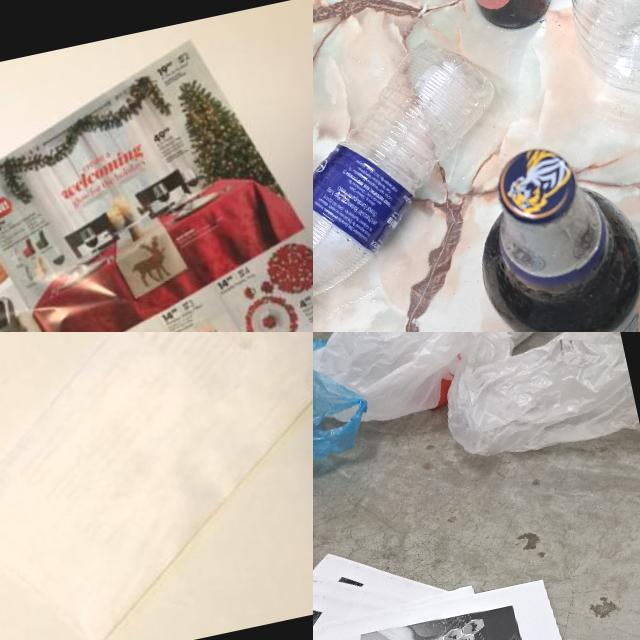garrafa de vidro: (458, 129, 640, 332)
garrafa plástica: (313, 29, 538, 310)
papel: (0, 12, 313, 332), (0, 332, 313, 640), (313, 502, 637, 640)
sacola plástica: (434, 332, 639, 465), (313, 332, 518, 433), (313, 332, 378, 487), (450, 332, 619, 360)
